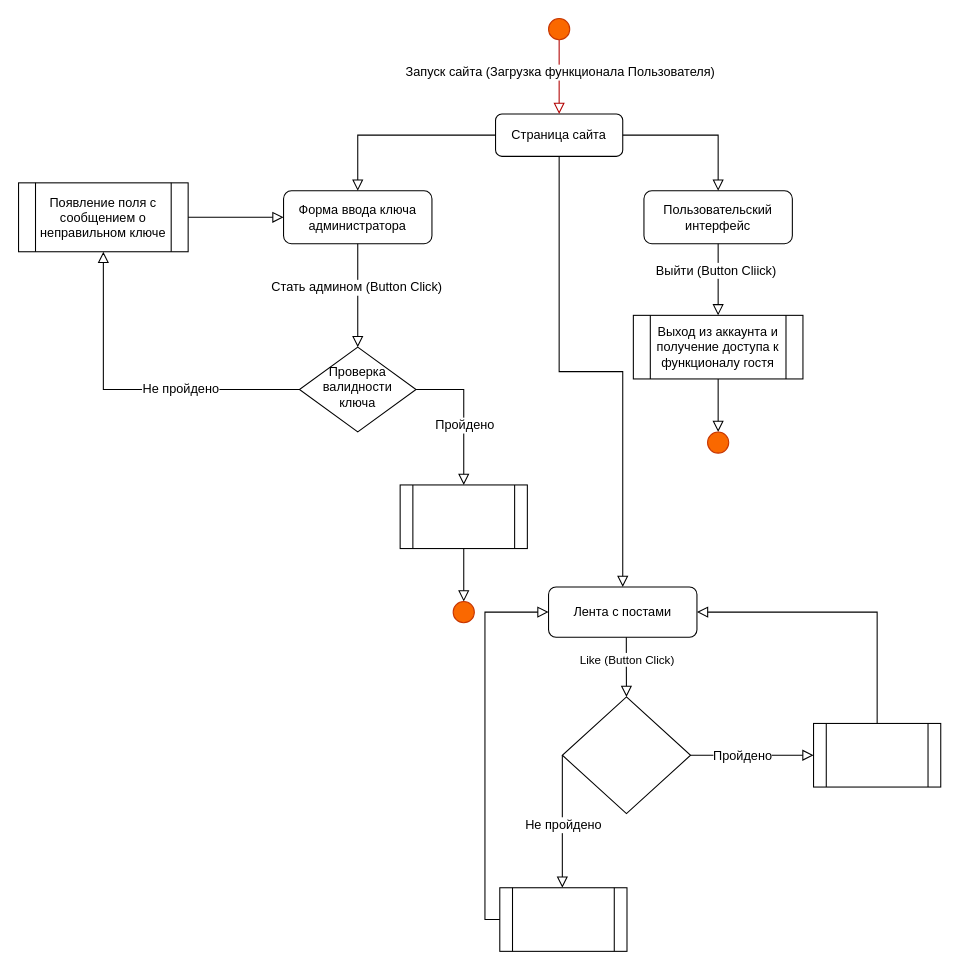
The diagram is 959 pixels wide and 970 high, and some of its shapes have lost their labels. The centre of each missing label's shape, as x and y in pixels:
Лайк ставится на пост: [563,919]
Лайк убирается с поста: [876,754]
Получение доступа к функционалу админа: [463,516]
Проверка нажатости кнопки: [626,755]
